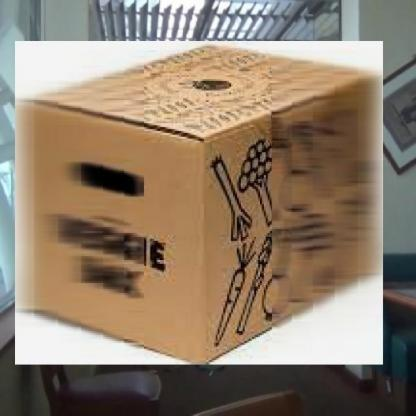box: (10, 36, 390, 370)
